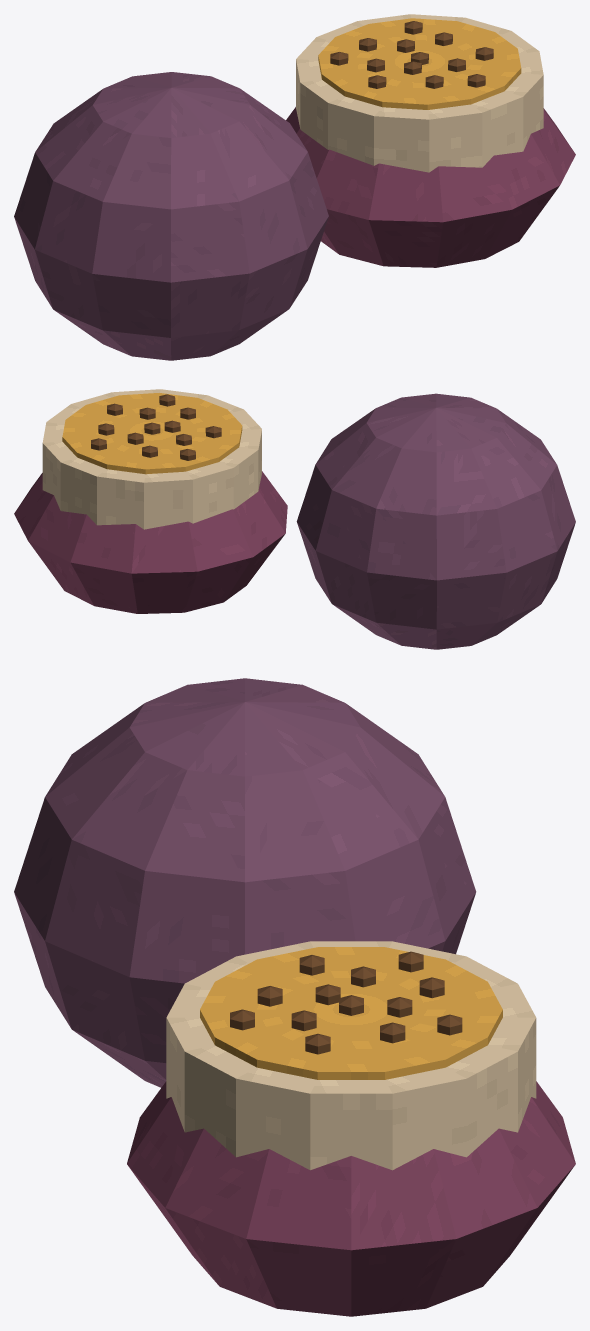
Rendered from maracuya.glb.
The picture shows the model from 3 angles, top to bottom: view 1: azimuth 30°, elevation 25°; view 2: azimuth 150°, elevation 25°; view 3: azimuth 270°, elevation 25°; orthographic projection. The views are drawn at different scales.
Visible parts, largest first — view 1: block_purple whole passionfruit, block_cut purple shell, block_white pith border, block_gold passionfruit pulp; view 2: block_purple whole passionfruit, block_cut purple shell, block_white pith border, block_gold passionfruit pulp; view 3: block_purple whole passionfruit, block_cut purple shell, block_white pith border, block_gold passionfruit pulp.
Boxes of the visible parts, box(x1,y1,x2,y2) form: block_purple whole passionfruit: box(14, 72, 328, 360); block_cut purple shell: box(286, 107, 575, 267); block_white pith border: box(296, 14, 543, 172); block_gold passionfruit pulp: box(318, 18, 521, 109); block_purple whole passionfruit: box(296, 393, 575, 649); block_cut purple shell: box(14, 471, 287, 613); block_white pith border: box(42, 389, 261, 529); block_gold passionfruit pulp: box(62, 393, 242, 474); block_purple whole passionfruit: box(14, 678, 476, 1087); block_cut purple shell: box(127, 1081, 575, 1316); block_white pith border: box(166, 941, 536, 1170); block_gold passionfruit pulp: box(200, 947, 502, 1079).
Size of the model in its own units: 0.1 by 0.0441 by 0.0591.
Materials: 1 (1 with a texture image).
